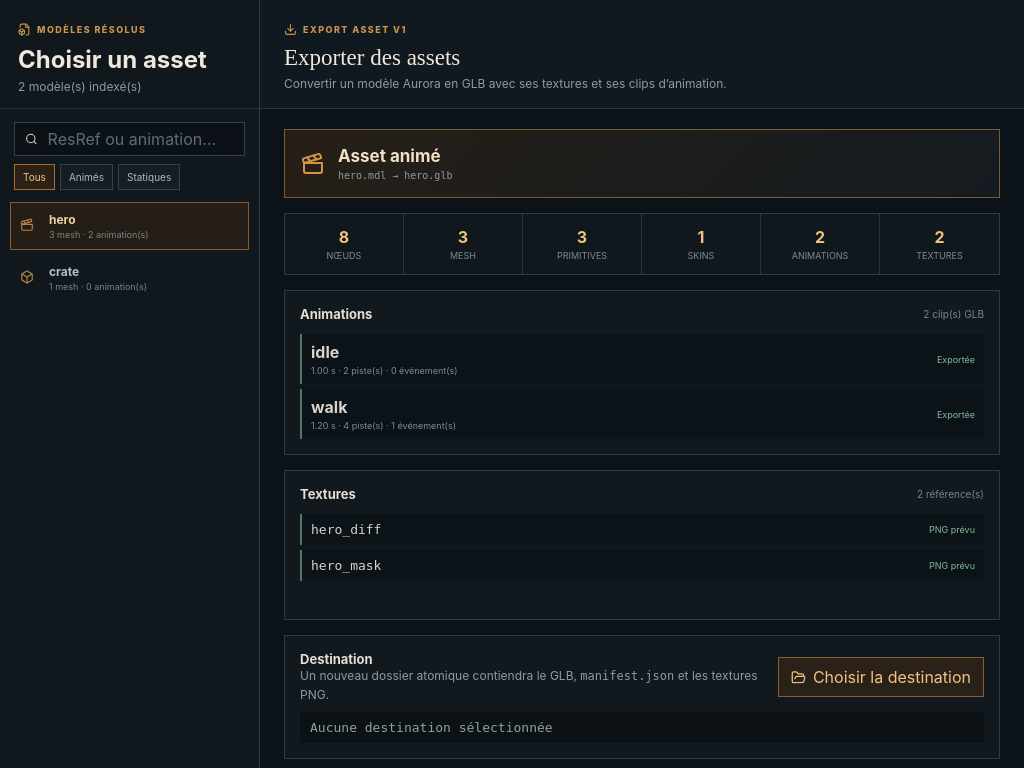
Test: AssetExportWorkspace › exports only after destination and local-only acknowledgement
Expected: the text "Asset animé" is shown, [338, 146, 452, 166]
Click the button "Choisir la destination". click: coordinates (881, 677)
box: [778, 657, 984, 697]
(page scrolled)
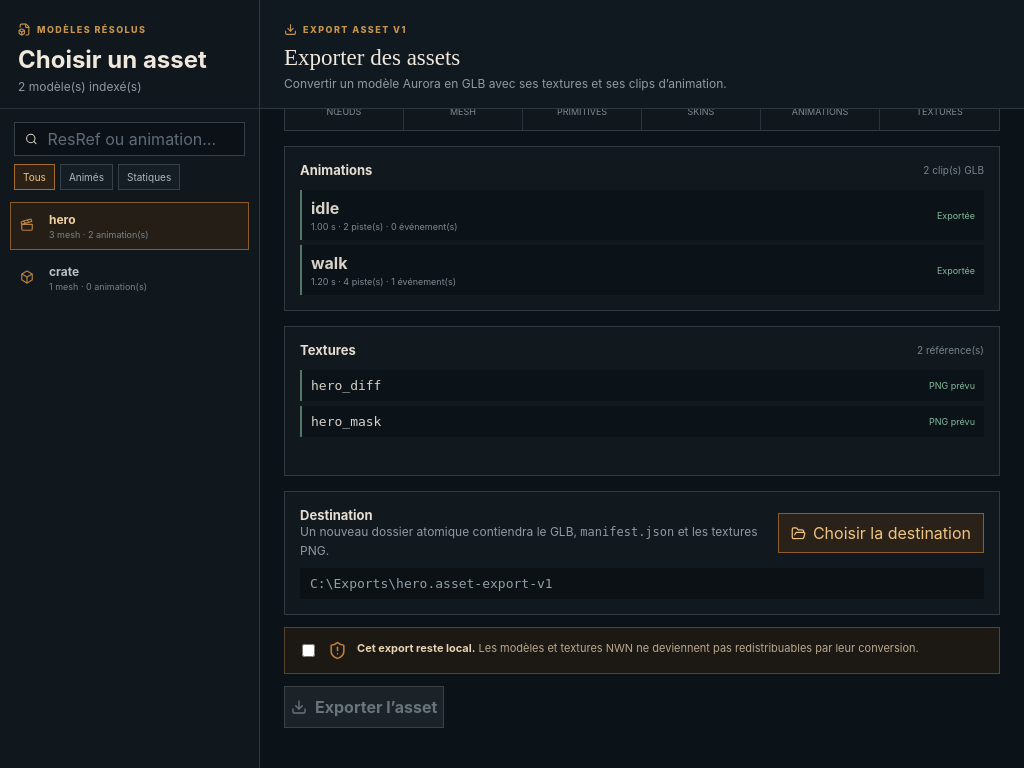
Now the text "C:\\Exports\\hero.asset-export-v1" is shown, box [300, 568, 984, 599]
Click the checkbox labelled "Cet export reste local". click: coordinates (308, 651)
box: [302, 644, 315, 657]
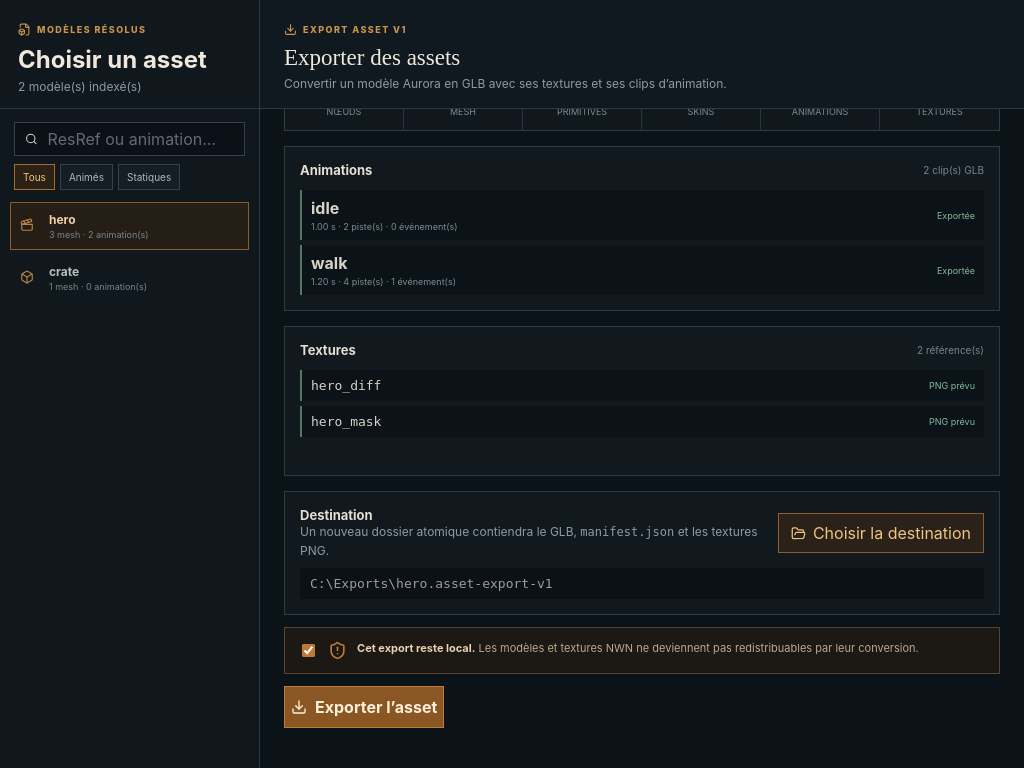
Now the button "Exporter l’asset" is enabled
Click the button "Exporter l’asset". click: coordinates (364, 707)
box: [284, 686, 444, 728]
(page scrolled)
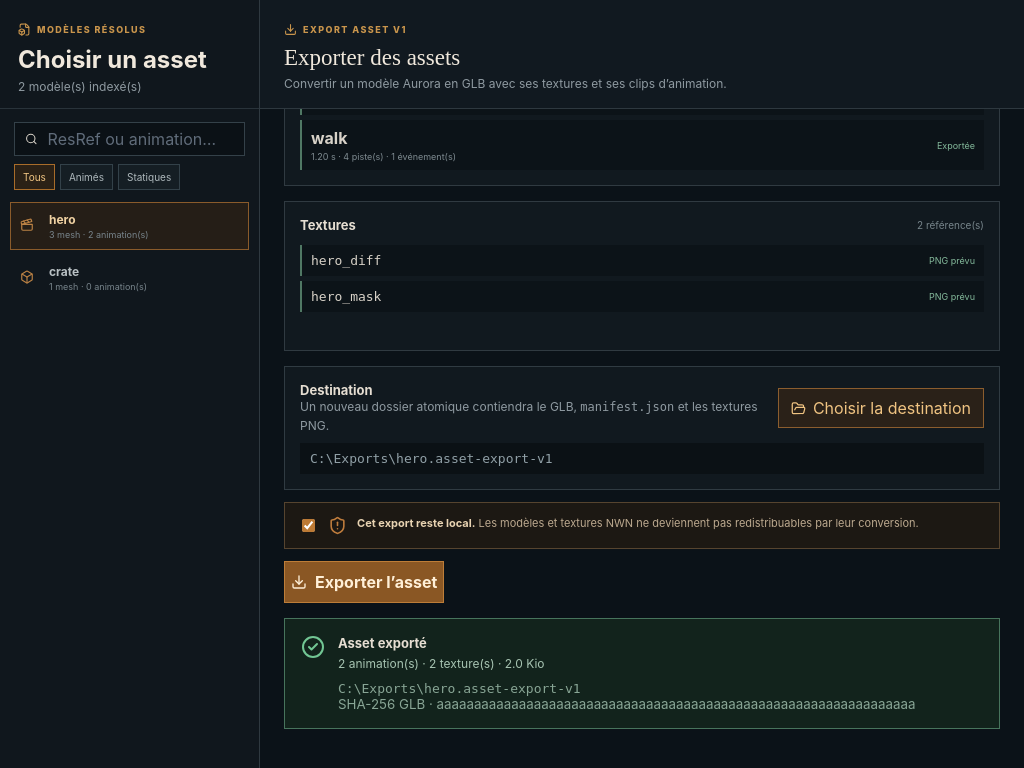
Now the element named "Résultat de l’export d’asset" shows "2 animation(s)", box [338, 656, 544, 671]
